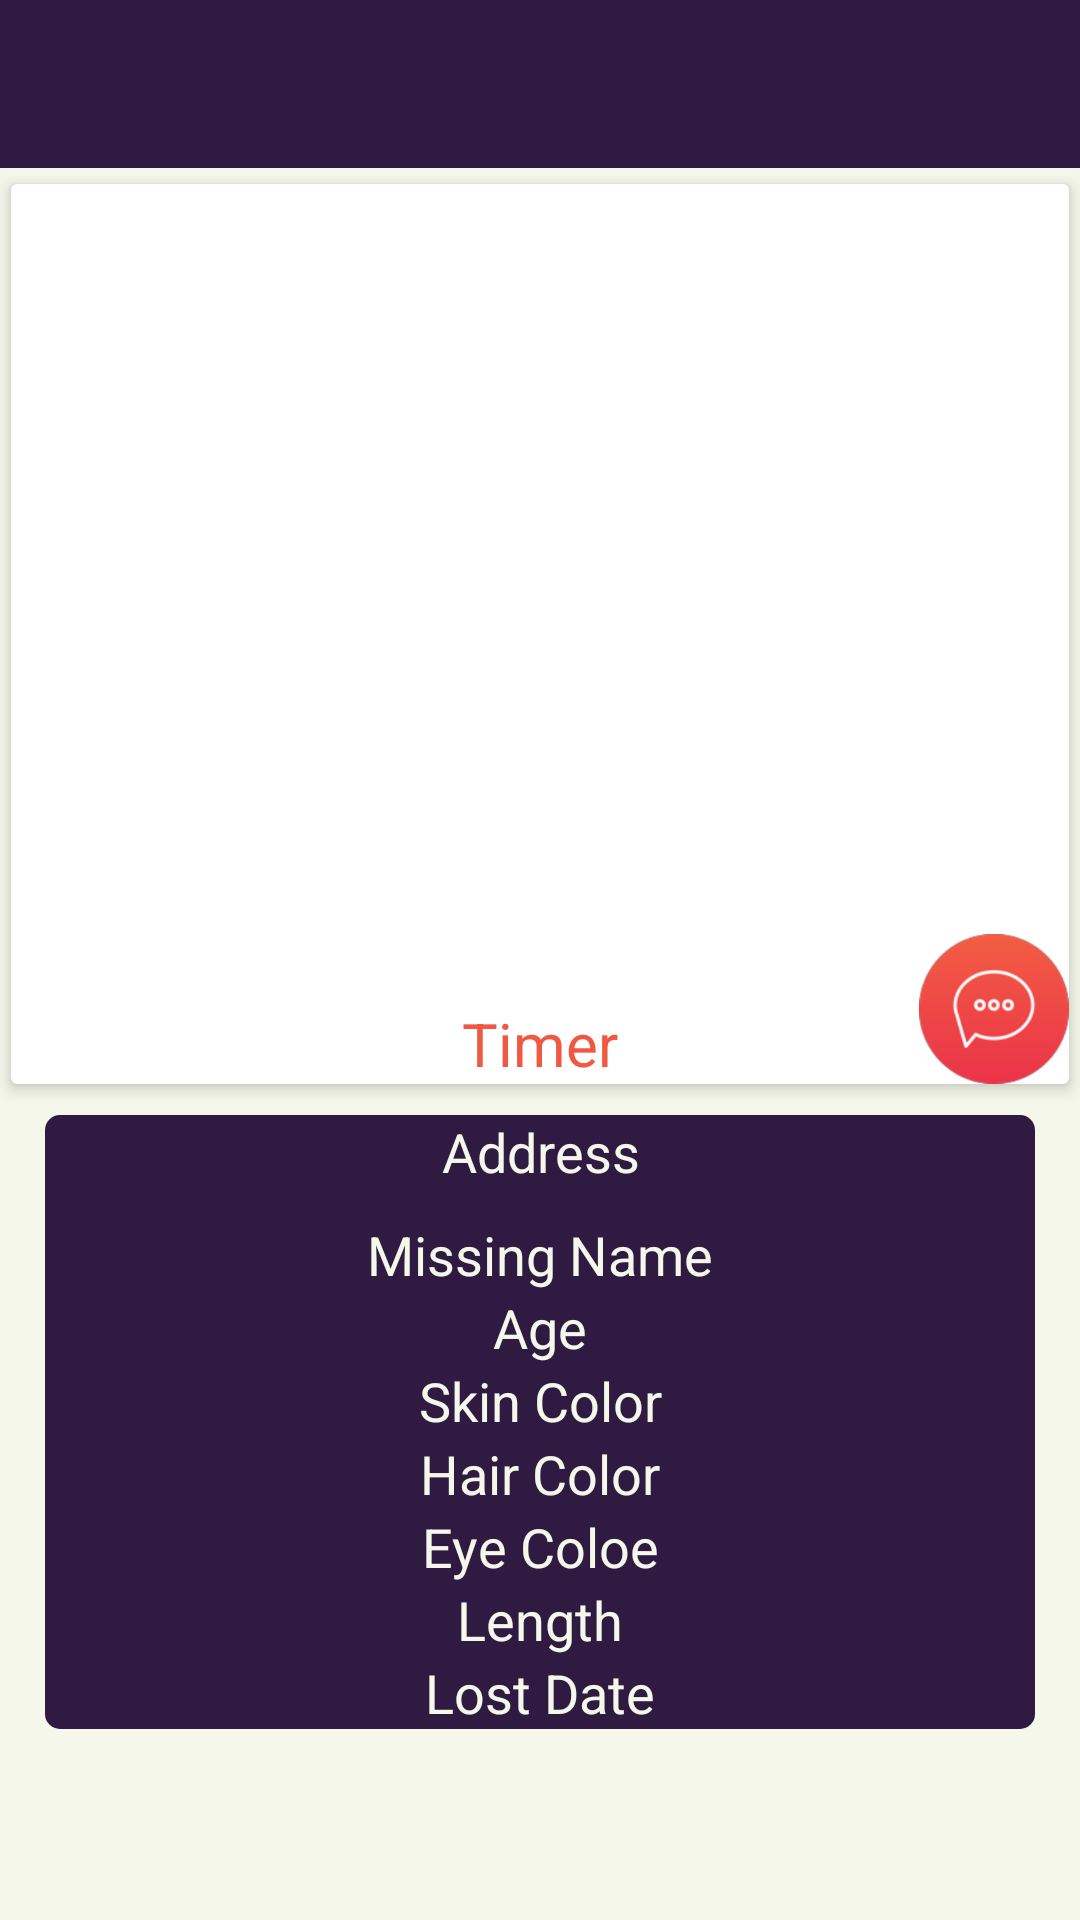

Where to tap for icons on this 1080 × 1920 app screen, as point (x, y):
chat: point (994, 1009)
